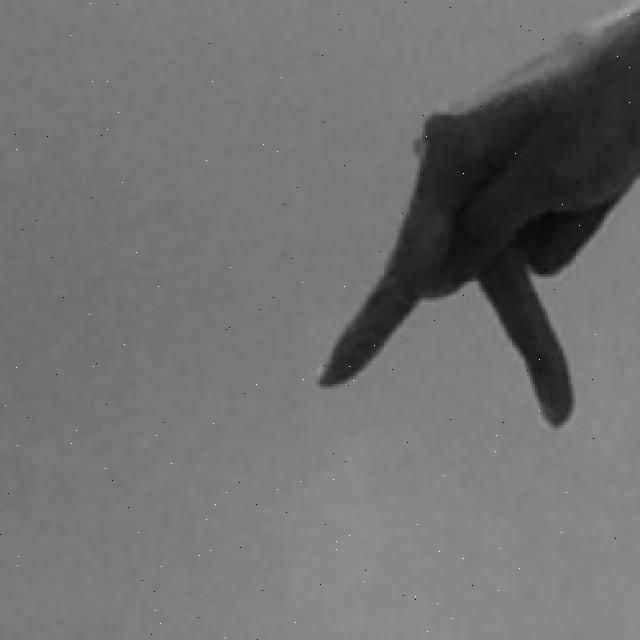P: (299, 0, 640, 432)
